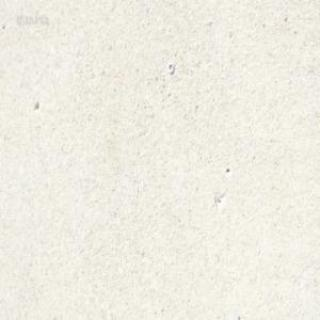Washertrack_idkeyframe: (166, 62, 174, 74)
